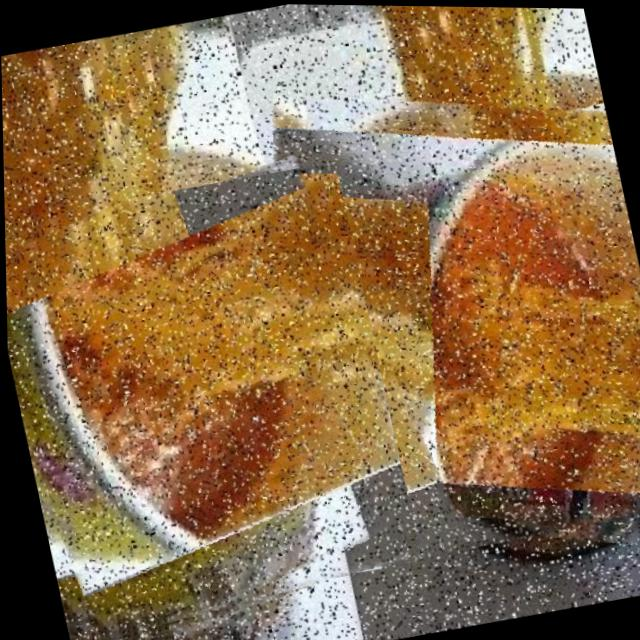Miscellaneous: (194, 54, 640, 588), (3, 157, 425, 640)
